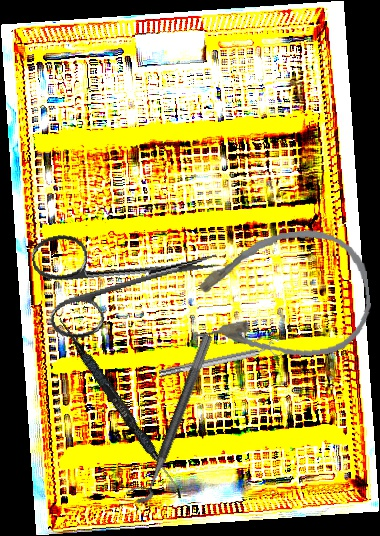Cannula: (184, 223, 376, 370)
Fixation Ring: (124, 328, 214, 508), (157, 337, 283, 383)
Iris Scissors: (28, 206, 227, 345)
Spatula Surgical: (52, 316, 190, 499)
